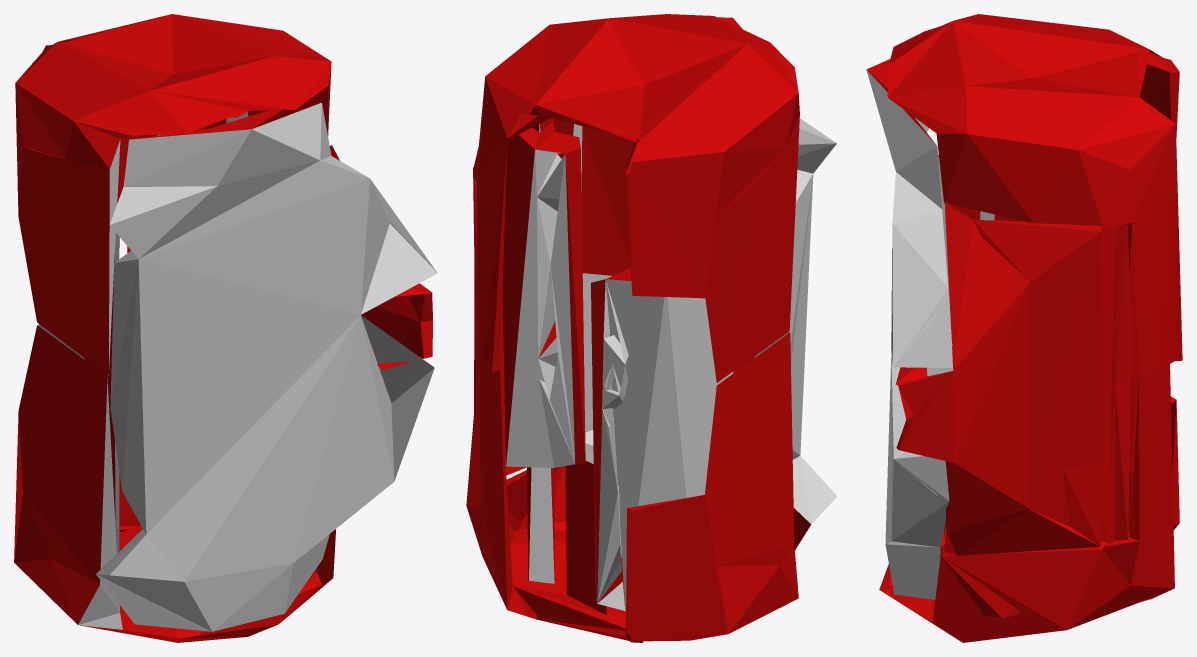
File: electric_gripper_base_decimate2.dae
3 views of the same model, side by side, from view 1: azimuth 30°, elevation 25°; view 2: azimuth 150°, elevation 25°; view 3: azimuth 270°, elevation 25° (orthographic).
Parts seen in each view (by area): view 1: _0031555; view 2: _0031555; view 3: _0031555.
Part boxes in pixels (box(x1,y1,x2,y2)): _0031555: box(14, 14, 437, 642); _0031555: box(466, 14, 837, 642); _0031555: box(866, 14, 1182, 642).
Size of the model in its own units: 0.0651 by 0.0552 by 0.1054.
